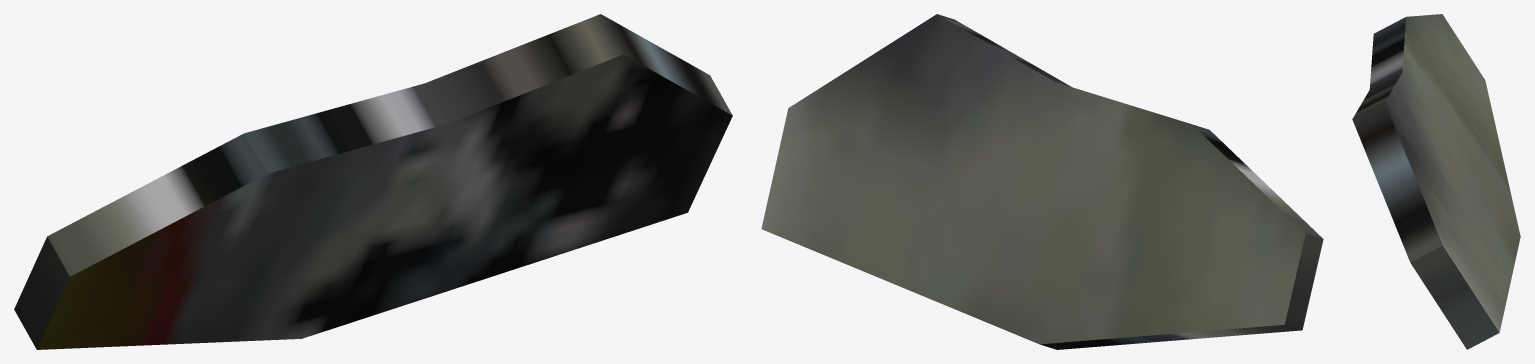
File: USA - Aviation - Spectre Gunship - Damage State 4 - AVSGunship_d4.glb
3 renders of one model, left to right at view 1: azimuth 30°, elevation 25°; view 2: azimuth 150°, elevation 25°; view 3: azimuth 270°, elevation 25°, orthographic. The views are drawn at different scales.
Parts seen in each view (by area): view 1: AVSGUNSHIP_D4; view 2: AVSGUNSHIP_D4; view 3: AVSGUNSHIP_D4.
Boxes of the visible parts, box(x1,y1,x2,y2) form: AVSGUNSHIP_D4: box(14, 14, 732, 349); AVSGUNSHIP_D4: box(761, 14, 1323, 349); AVSGUNSHIP_D4: box(1352, 14, 1520, 349).
Bounding box in the file's own units: 10.96 × 5.07 × 3.36.
Materials: 1 (1 with a texture image).
